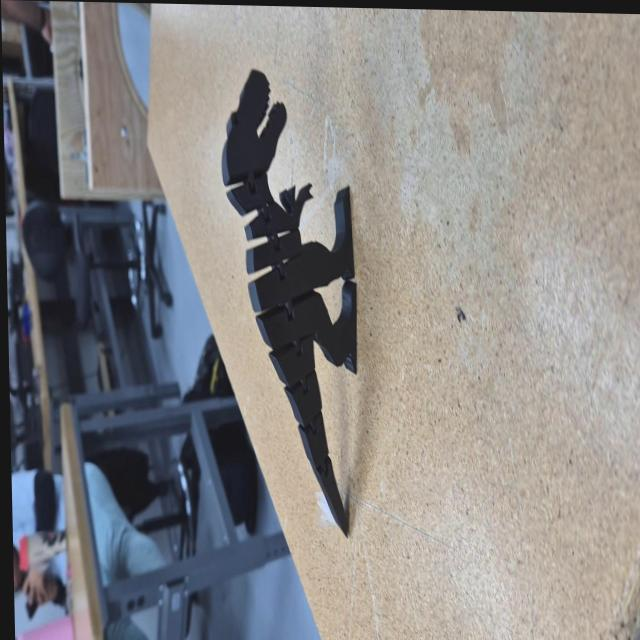dino: (217, 66, 362, 540)
